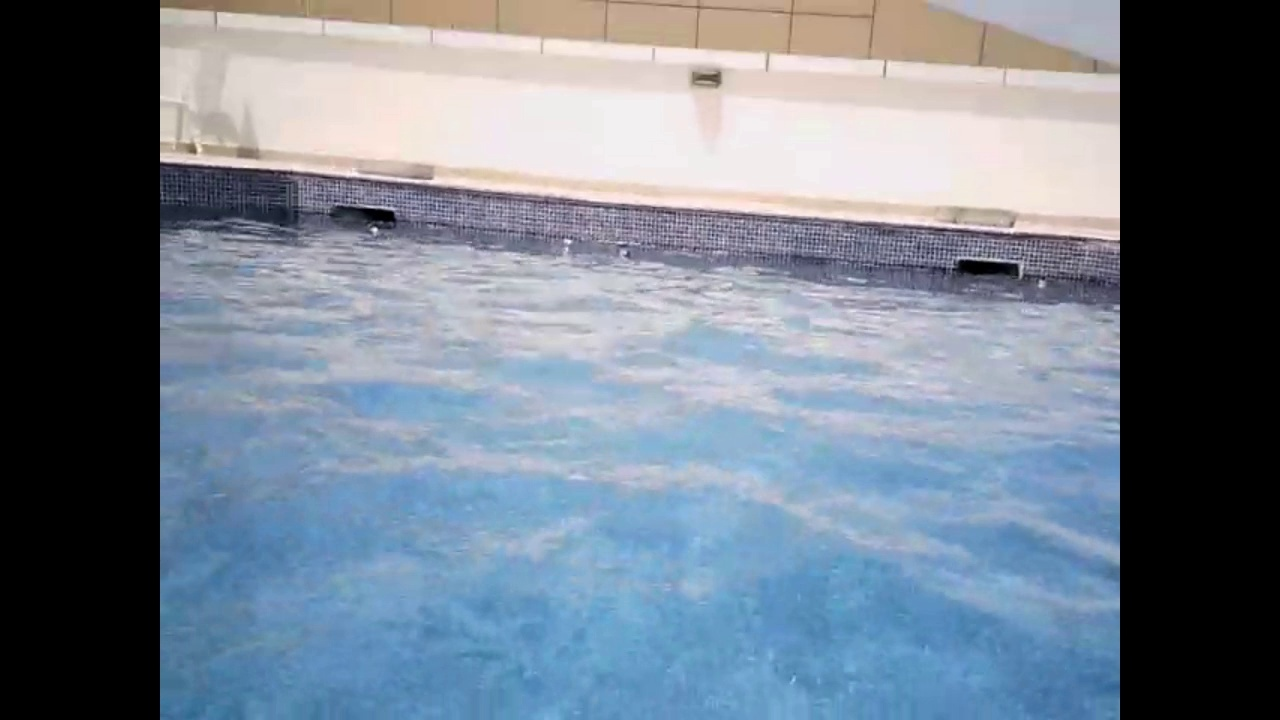debris: (614, 242, 636, 263), (557, 231, 577, 251), (365, 223, 381, 235), (1035, 276, 1047, 291)
